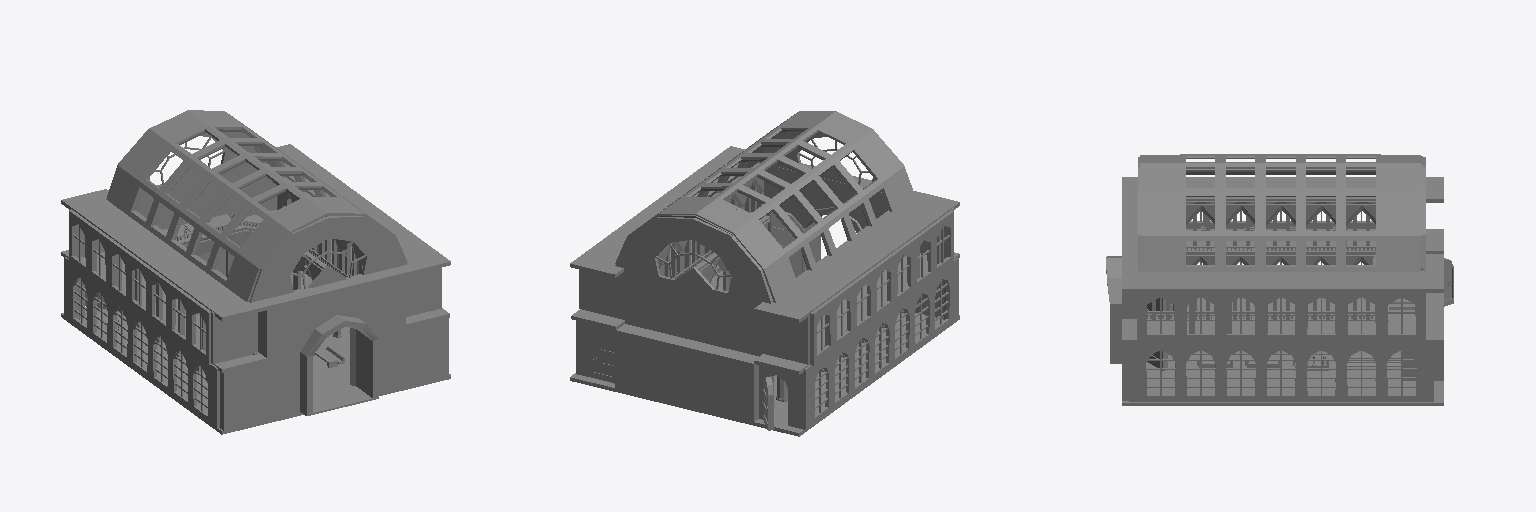
3 renders of one model, left to right at view 1: azimuth 30°, elevation 25°; view 2: azimuth 150°, elevation 25°; view 3: azimuth 270°, elevation 25°, orthographic.
Visible parts, largest first — view 1: doorway_back, stained_glass001, ceiling_side001, ceiling_side, Box529, Box527, wall_back, wall_back001, wall_front_2, ceiling, ceiling001, ceiling002 (+26 smaller); view 2: wall_front_1, wall_front_2, stained_glass, ceiling_side, ceiling_side001, Box527, Box529, doorway_back, ceiling003, ceiling004, ceiling002, ceiling001 (+28 smaller); view 3: ceiling_side, ceiling_side001, Box544, Box545, doorway_back, ceiling004, ceiling003, ceiling, ceiling001, ceiling002, window_1_side003, floor_side002 (+28 smaller).
Boxes of the visible parts, <box> form: doorway_back: <box>258,267,405,419</box>; stained_glass001: <box>249,216,406,302</box>; ceiling_side001: <box>227,199,407,301</box>; ceiling_side: <box>106,110,275,213</box>; Box529: <box>141,248,266,320</box>; Box527: <box>61,189,185,259</box>; wall_back: <box>220,362,266,430</box>; wall_back001: <box>406,318,448,385</box>; wall_front_2: <box>136,165,255,229</box>; ceiling: <box>127,125,295,228</box>; ceiling001: <box>147,140,315,243</box>; ceiling002: <box>167,155,330,257</box>; wall_front_1: <box>615,324,773,421</box>; wall_front_2: <box>624,268,762,356</box>; stained_glass: <box>615,217,773,303</box>; ceiling_side: <box>615,199,795,302</box>; ceiling_side001: <box>738,111,916,213</box>; Box527: <box>754,252,879,322</box>; Box529: <box>836,191,959,261</box>; doorway_back: <box>766,163,887,270</box>; ceiling003: <box>702,140,876,243</box>; ceiling004: <box>717,126,896,228</box>; ceiling002: <box>693,155,855,258</box>; ceiling001: <box>674,170,835,273</box>; ceiling_side: <box>1381,155,1423,271</box>; ceiling_side001: <box>1140,155,1179,271</box>; Box544: <box>1122,267,1282,292</box>; Box545: <box>1283,267,1443,292</box>; doorway_back: <box>1106,199,1137,363</box>; ceiling004: <box>1180,154,1220,271</box>; ceiling003: <box>1221,154,1260,271</box>; ceiling: <box>1341,154,1380,271</box>; ceiling001: <box>1301,154,1340,271</box>; ceiling002: <box>1261,154,1300,271</box>; window_1_side003: <box>1129,344,1180,401</box>; floor_side002: <box>1283,381,1443,405</box>.
Size of the model in its own units: 33.48 by 25.65 by 43.32.